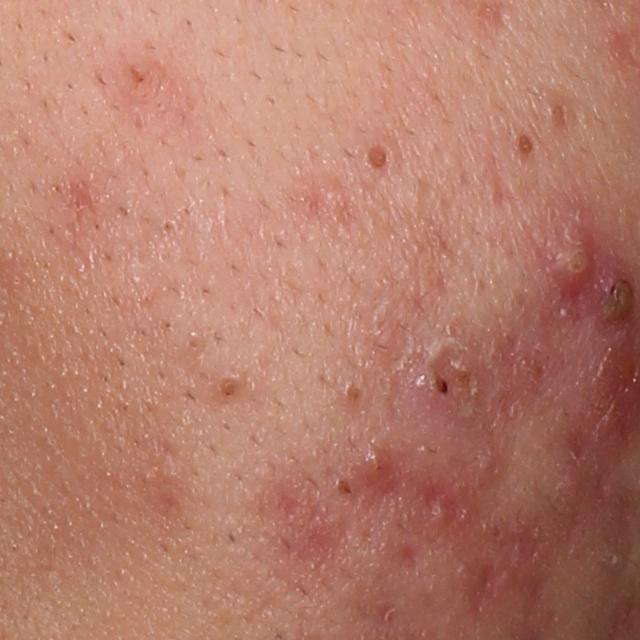atrophic_scar: (457, 555, 509, 617)
comedo: (353, 131, 404, 175), (507, 125, 542, 163), (216, 371, 246, 402), (330, 475, 355, 499)
papule: (387, 327, 485, 424), (354, 438, 399, 487)
pustule: (541, 207, 599, 293)
